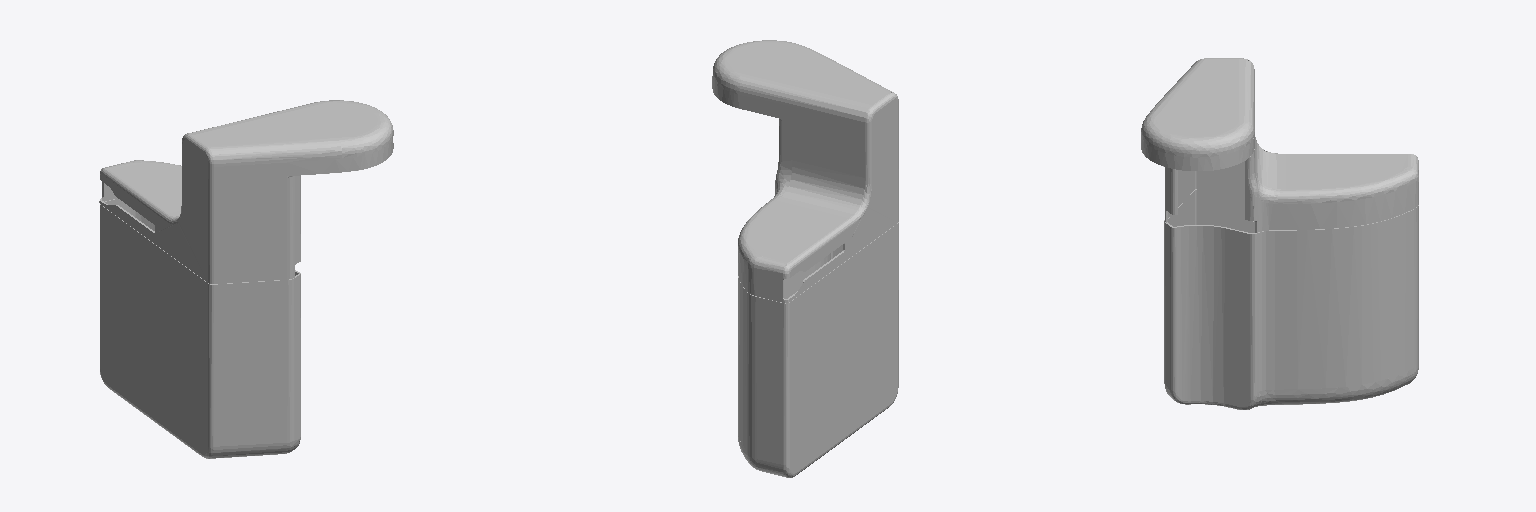
Rendered from shoulder.obj.
3 renders of one model, left to right at view 1: azimuth 30°, elevation 25°; view 2: azimuth 150°, elevation 25°; view 3: azimuth 270°, elevation 25°, orthographic.
Size of the model in its own units: 0.1301 by 0.2183 by 0.176.